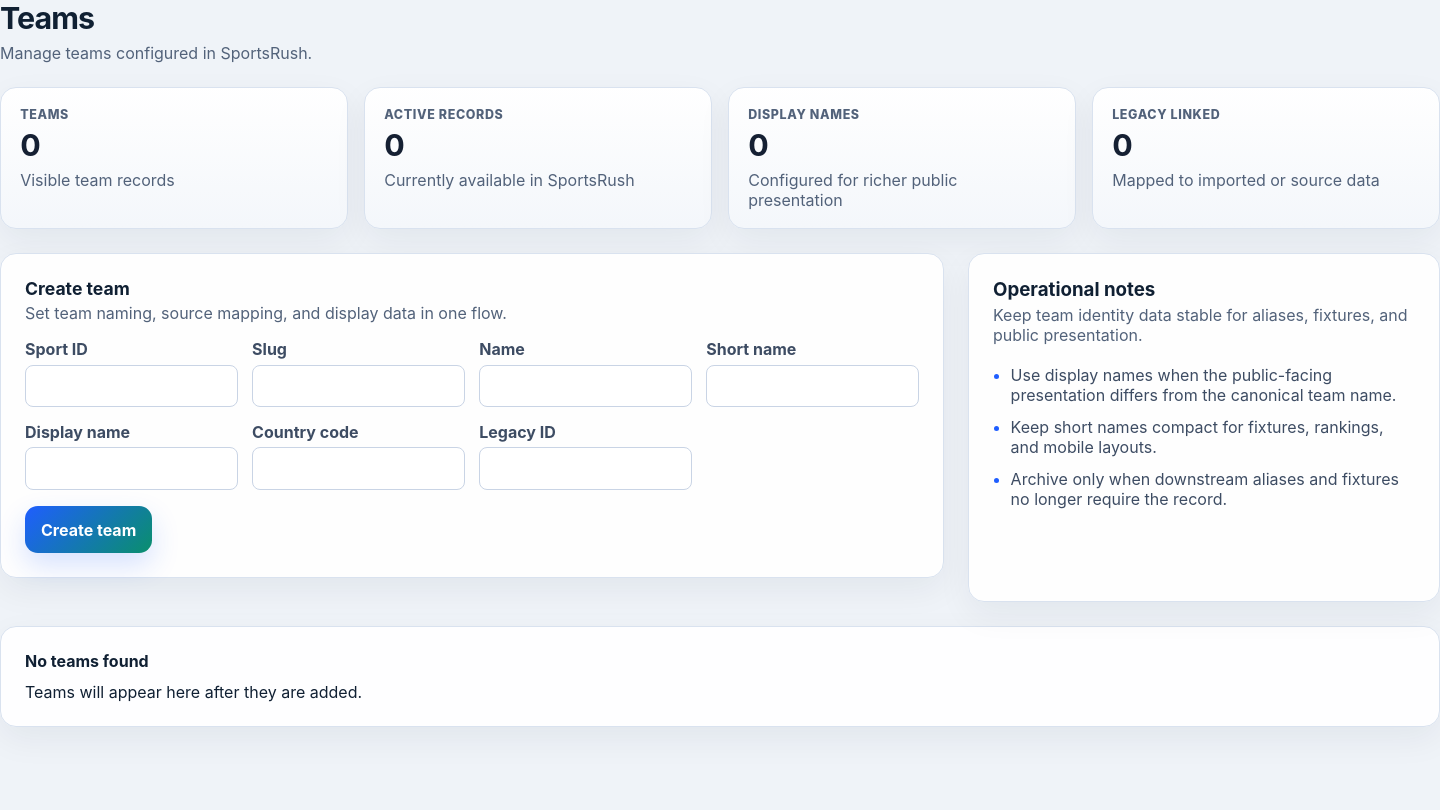
it: TeamsPage › validates required create fields
Expected: the text "No teams found" is shown, [25, 651, 149, 671]
Step 1. Click the button "Create team" → (89, 530), box [25, 506, 152, 553]
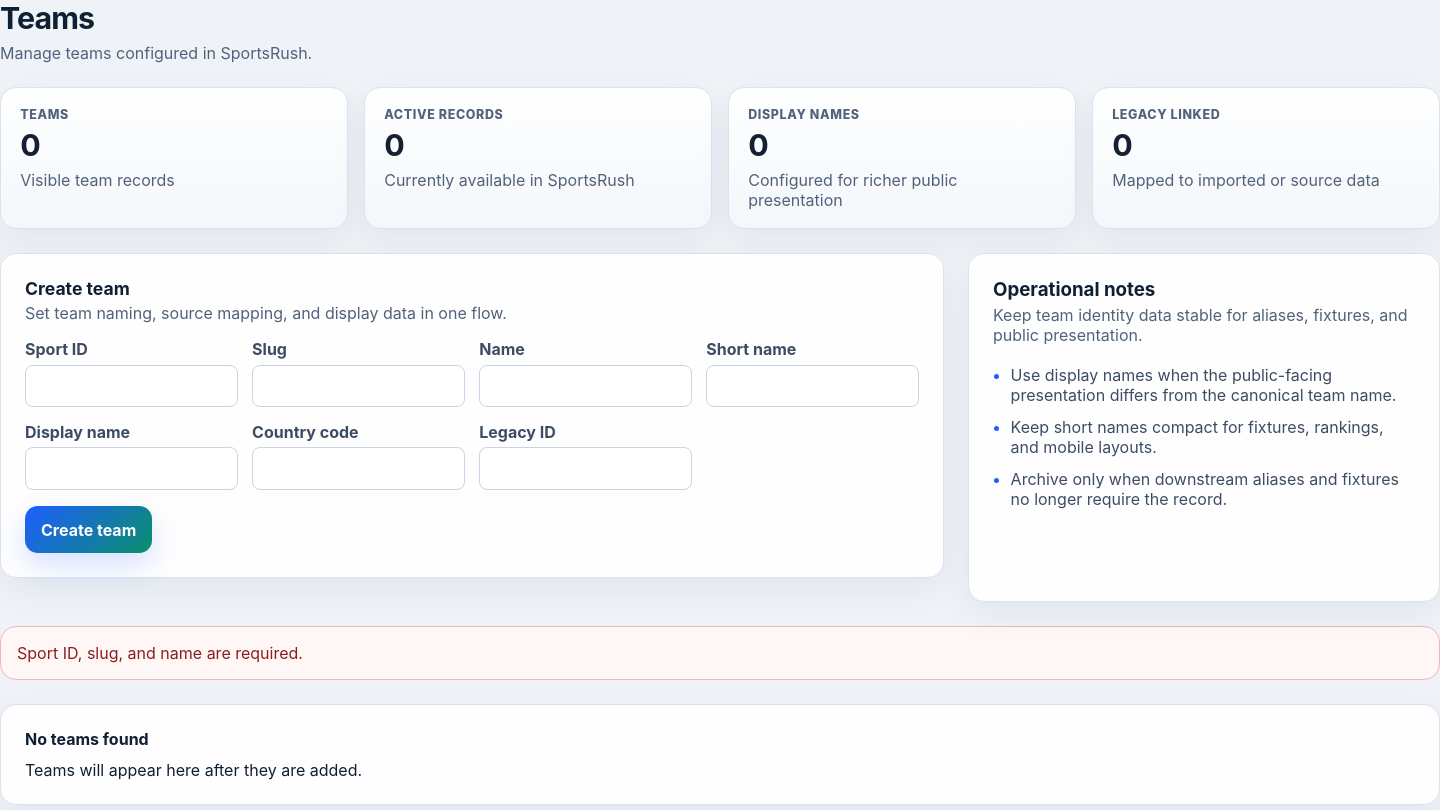
Expected: the message reads "Sport ID, slug, and name are required.", [17, 643, 303, 663]
